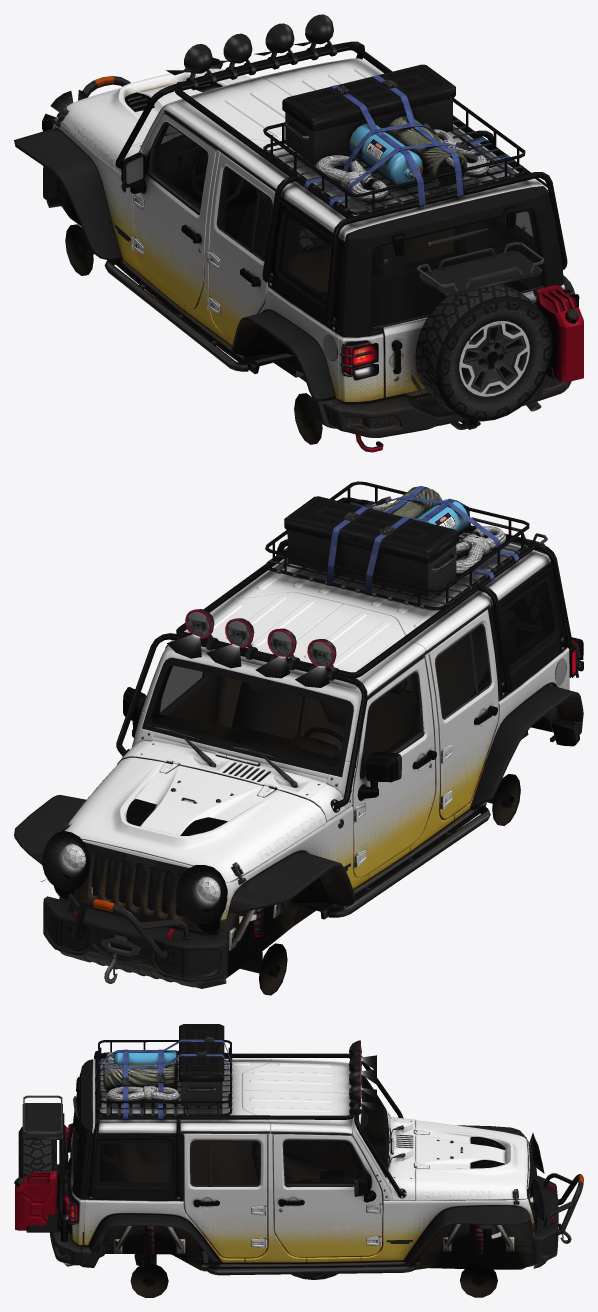
Rendered from rock-ranger.glb.
3 views of the same model, one above another, from view 1: azimuth 30°, elevation 25°; view 2: azimuth 150°, elevation 25°; view 3: azimuth 270°, elevation 25° (orthographic). The views are drawn at different scales.
Parts seen in each view (by area): view 1: Body, Steering; view 2: Body; view 3: Body.
Boxes of the visible parts, <box> form: Body: <box>14,14,583,452</box>; Steering: <box>190,150,243,202</box>; Body: <box>14,481,583,995</box>; Body: <box>14,1024,583,1297</box>.
Bounding box in the file's own units: 1.99 × 2.18 × 4.93.
Materials: 13 (8 with a texture image).
